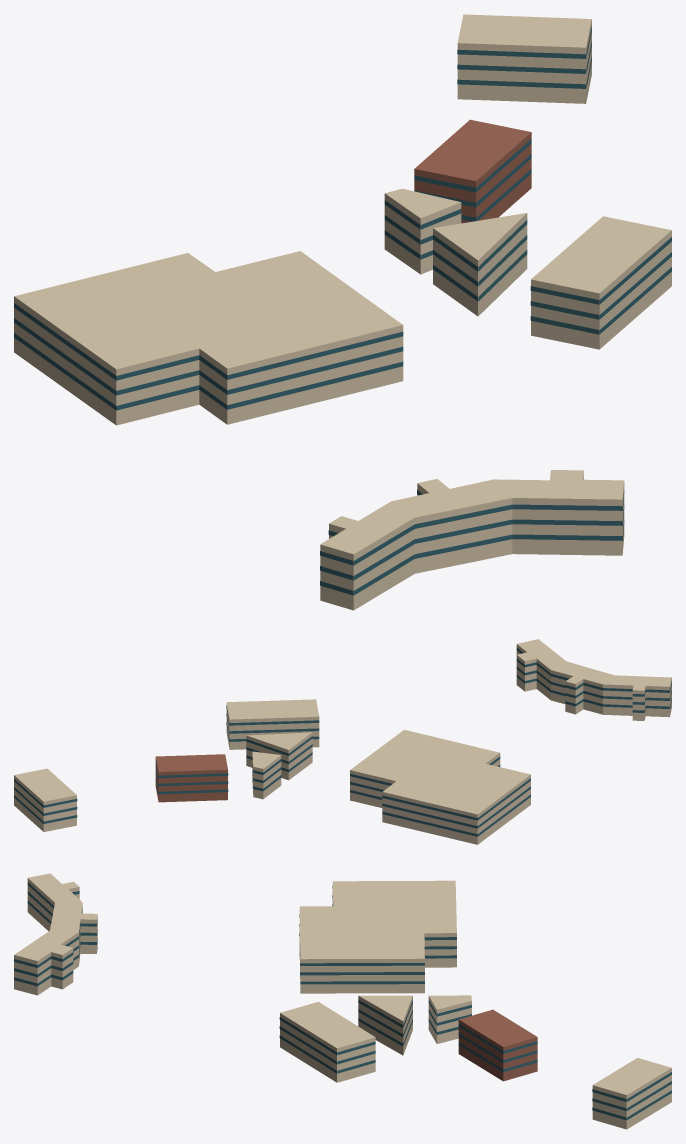
Rendered from city_7_2.glb.
The picture shows the model from 3 angles, top to bottom: view 1: azimuth 30°, elevation 25°; view 2: azimuth 150°, elevation 25°; view 3: azimuth 270°, elevation 25°; orthographic projection. The views are drawn at different scales.
Parts seen in each view (by area): view 1: city_7_2; view 2: city_7_2; view 3: city_7_2.
Boxes of the visible parts, x1,y1,x2,y2 form: city_7_2: (14,14,671,610); city_7_2: (14,639,671,844); city_7_2: (14,873,671,1129).
Bounding box in the file's own units: 207 × 15 × 260.
